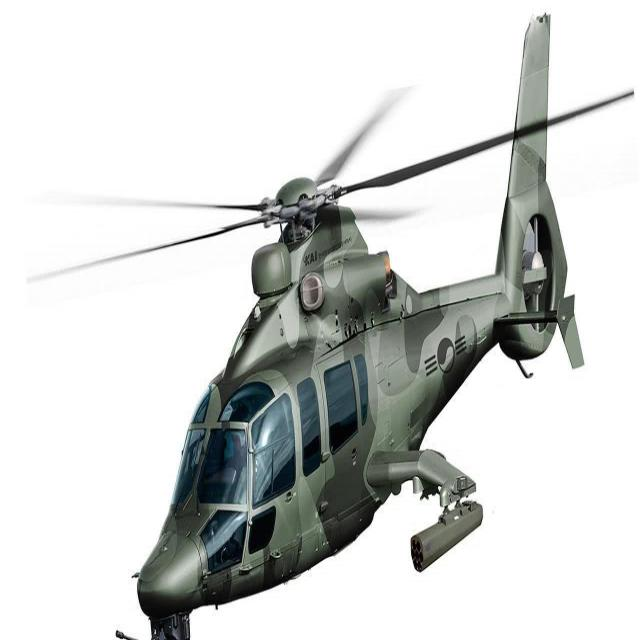MIL_HELO: (11, 13, 640, 617)
